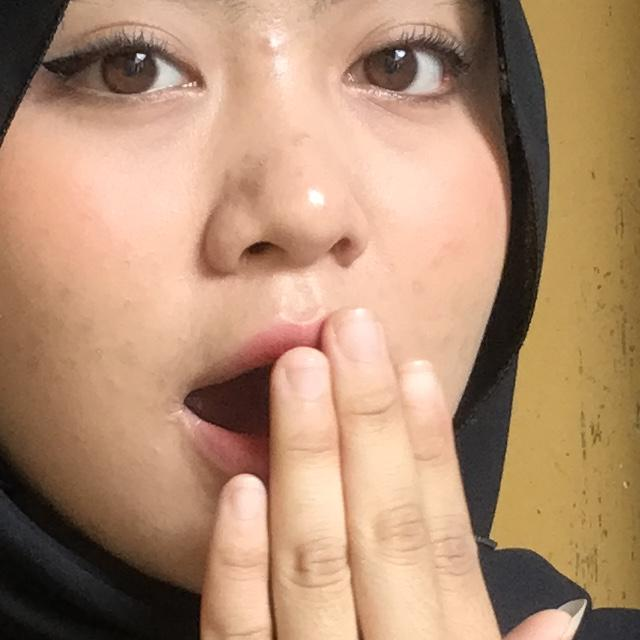ngantuk: (50, 286, 640, 640)
